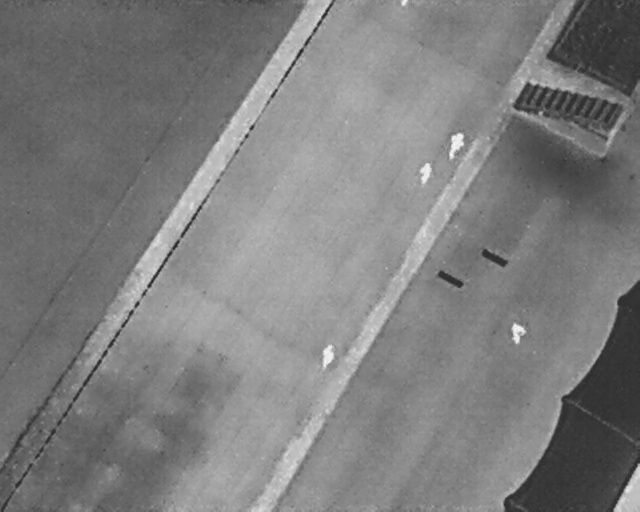Person: (445, 128, 468, 163), (318, 341, 339, 372), (416, 160, 433, 188), (509, 321, 527, 345)
